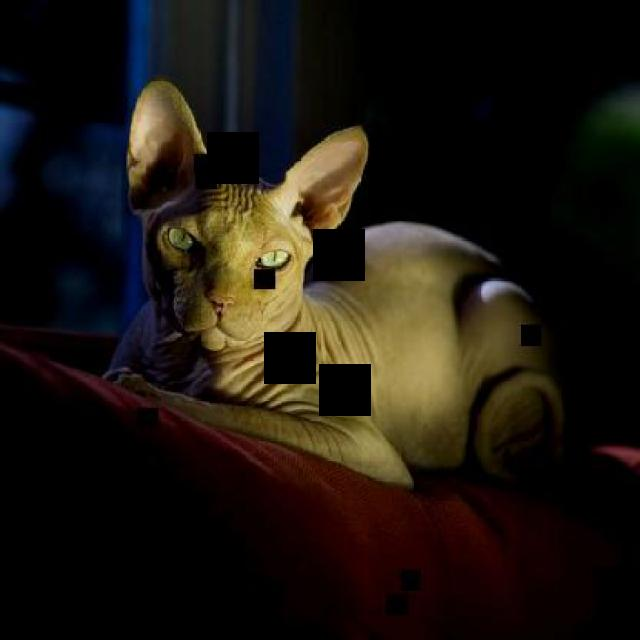unauthorized: (102, 75, 569, 492)
